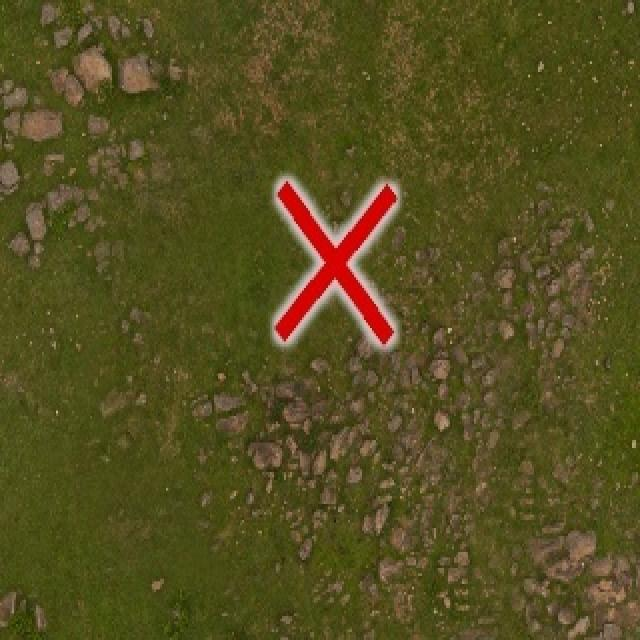x_marker: (275, 180, 395, 343)
